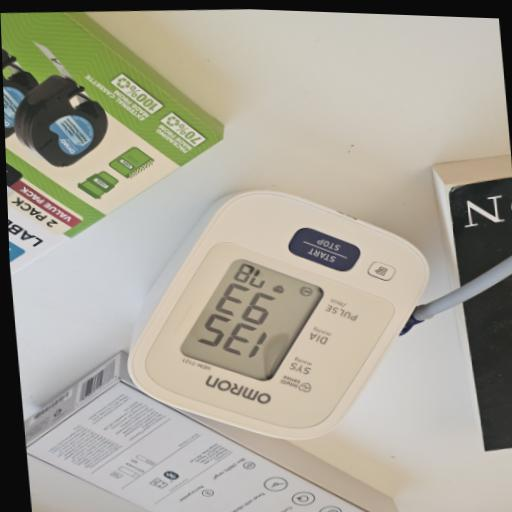blood pressure monitor: (108, 169, 447, 455)
